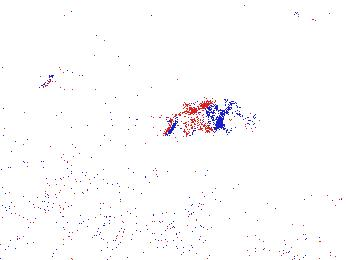X-ray fish: (192, 98, 266, 138)
red belly glassfish: (292, 7, 318, 25)
redtail glassfish: (154, 101, 242, 135), (39, 62, 96, 92)
